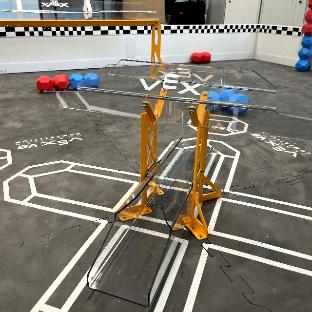Low_goal: (87, 138, 205, 306)
Med_goal: (78, 60, 277, 236)
V5_BLUE: (209, 89, 248, 104), (296, 35, 312, 70), (70, 74, 99, 89)
V5_RED: (53, 74, 68, 90), (37, 76, 53, 91)
